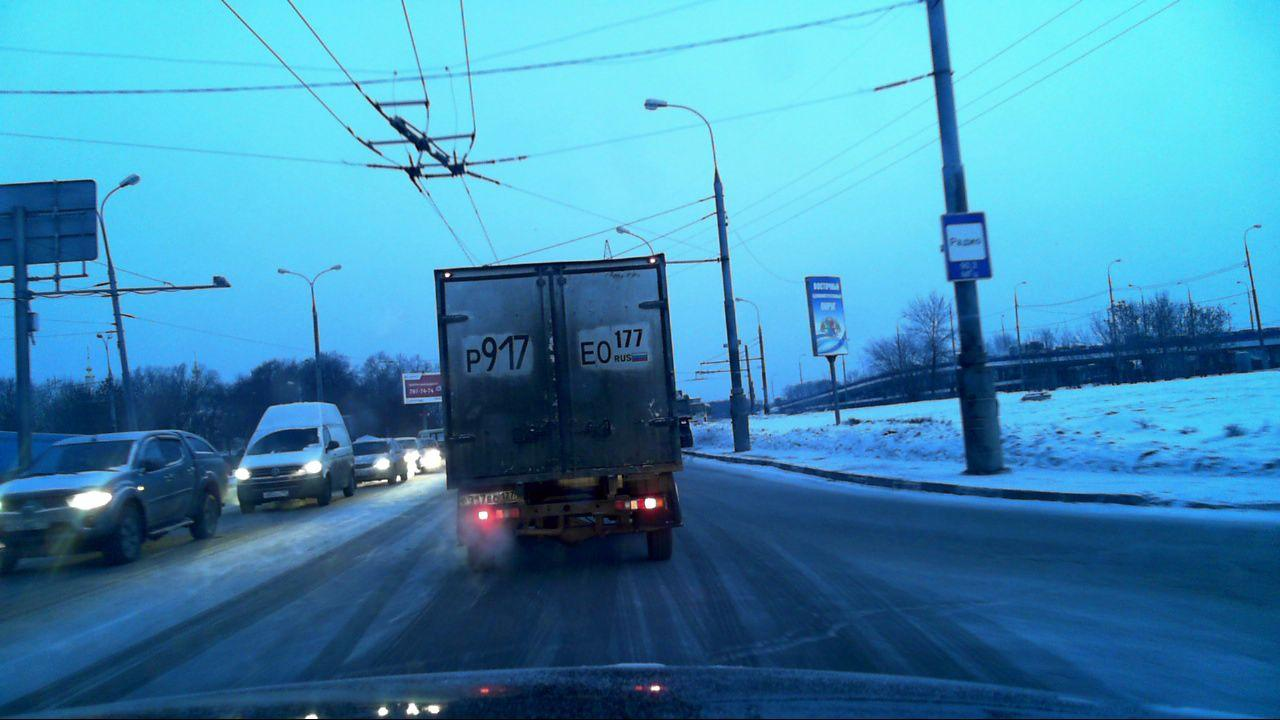7_15: (937, 210, 996, 282)
